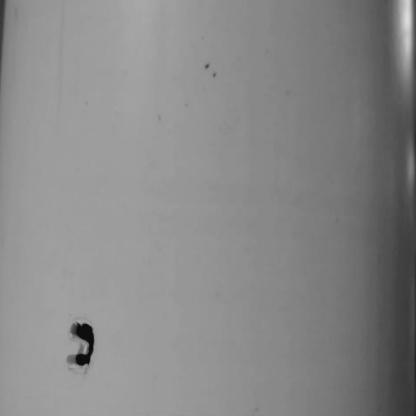kongdong: (62, 313, 105, 373)
